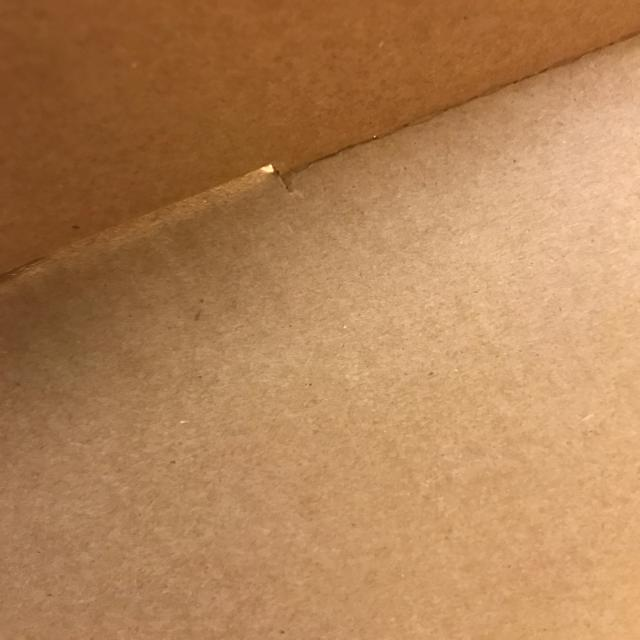cardboard: (1, 1, 639, 638), (1, 0, 639, 276)
